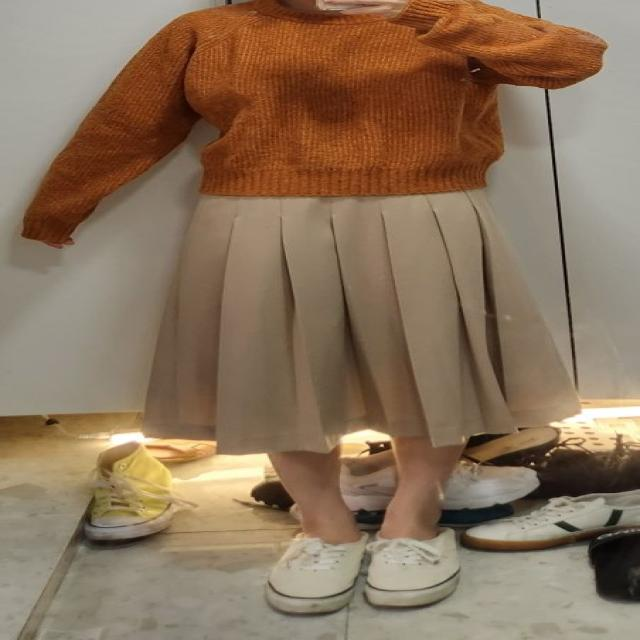skirt: (142, 190, 580, 456)
sweater: (16, 0, 611, 245)
